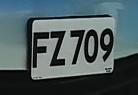0: (84, 26, 100, 65)
7: (68, 27, 86, 67)
9: (98, 26, 115, 63)
F: (31, 28, 49, 71)
Z: (49, 29, 68, 69)
